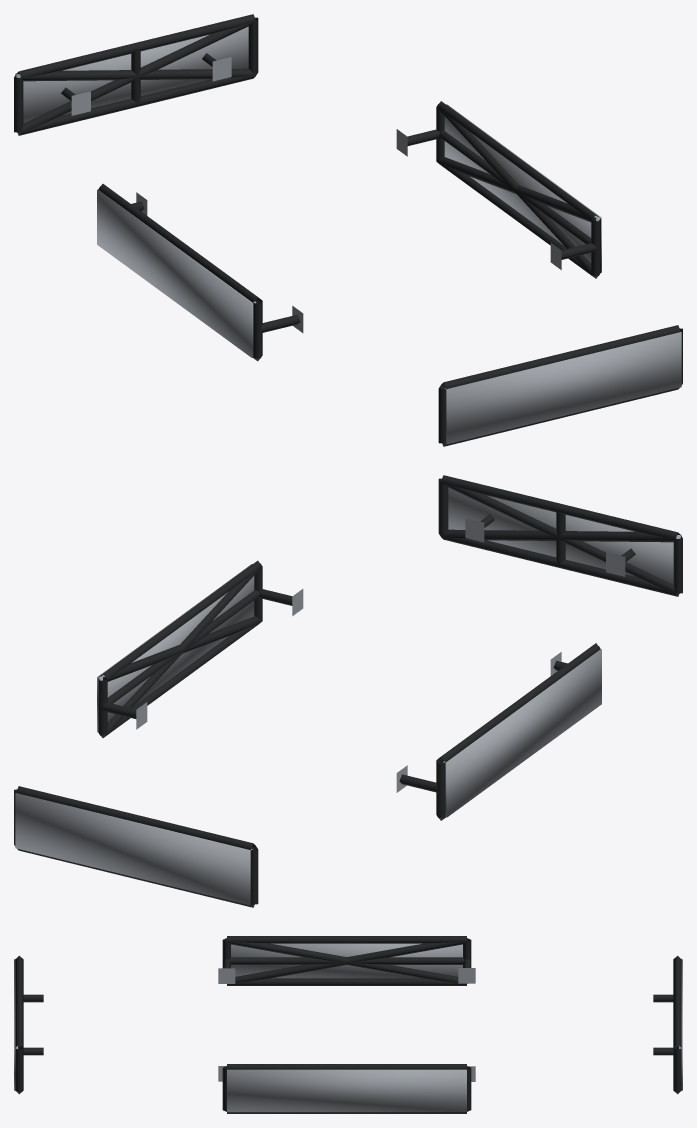
The model's file is ottavo_terra_protecao.glb.
The picture shows the model from 3 angles, top to bottom: view 1: azimuth 30°, elevation 25°; view 2: azimuth 150°, elevation 25°; view 3: azimuth 270°, elevation 25°; orthographic projection. The views are drawn at different scales.
Parts seen in each view (by area): view 1: Protection_front_Level3_Details, Protection_left_Level3_Details, Protection_rear_Level1_Details, Protection_rear_Level3_Details, Protection_right_Level1_Details, Protection_rear_Level2_Details, Protection_right_Level2_Details, Protection_right_Level3_Details, Protection_front_Level1_Details, Protection_left_Level1_Details; view 2: Protection_rear_Level3_Details, Protection_left_Level3_Details, Protection_front_Level1_Details, Protection_front_Level3_Details, Protection_right_Level1_Details, Protection_front_Level2_Details, Protection_right_Level2_Details, Protection_right_Level3_Details, Protection_rear_Level1_Details, Protection_left_Level1_Details; view 3: Protection_right_Level3_Details, Protection_left_Level2_Details, Protection_left_Level1_Details, Protection_left_Level3_Details, Protection_right_Level1_Details, Protection_rear_Level1_Details, Protection_front_Level1_Details.
Part boxes in pixels (x1,y1,x2,y2): Protection_front_Level3_Details: (444, 332, 681, 444); Protection_left_Level3_Details: (97, 189, 256, 357); Protection_rear_Level1_Details: (14, 14, 258, 135); Protection_rear_Level3_Details: (15, 26, 248, 123); Protection_right_Level1_Details: (396, 101, 600, 278); Protection_rear_Level2_Details: (16, 21, 255, 134); Protection_right_Level2_Details: (436, 107, 599, 278); Protection_right_Level3_Details: (444, 104, 601, 272); Protection_front_Level1_Details: (438, 325, 682, 446); Protection_left_Level1_Details: (98, 184, 303, 361); Protection_rear_Level3_Details: (15, 793, 252, 905); Protection_left_Level3_Details: (442, 649, 601, 817); Protection_front_Level1_Details: (438, 475, 682, 596); Protection_front_Level3_Details: (448, 487, 681, 584); Protection_right_Level1_Details: (98, 560, 303, 737); Protection_front_Level2_Details: (441, 482, 680, 595); Protection_right_Level2_Details: (99, 567, 261, 737); Protection_right_Level3_Details: (97, 564, 254, 732); Protection_rear_Level1_Details: (14, 786, 258, 907); Protection_left_Level1_Details: (396, 643, 600, 820); Protection_right_Level3_Details: (227, 1069, 466, 1112); Protection_left_Level2_Details: (226, 938, 467, 983); Protection_left_Level1_Details: (218, 936, 475, 985); Protection_left_Level3_Details: (231, 943, 462, 978); Protection_right_Level1_Details: (218, 1064, 475, 1113); Protection_rear_Level1_Details: (653, 955, 681, 1094); Protection_front_Level1_Details: (15, 955, 43, 1094).
Size of the model in its own units: 2.01 by 0.354 by 4.29.
1 material, 1 textured.
